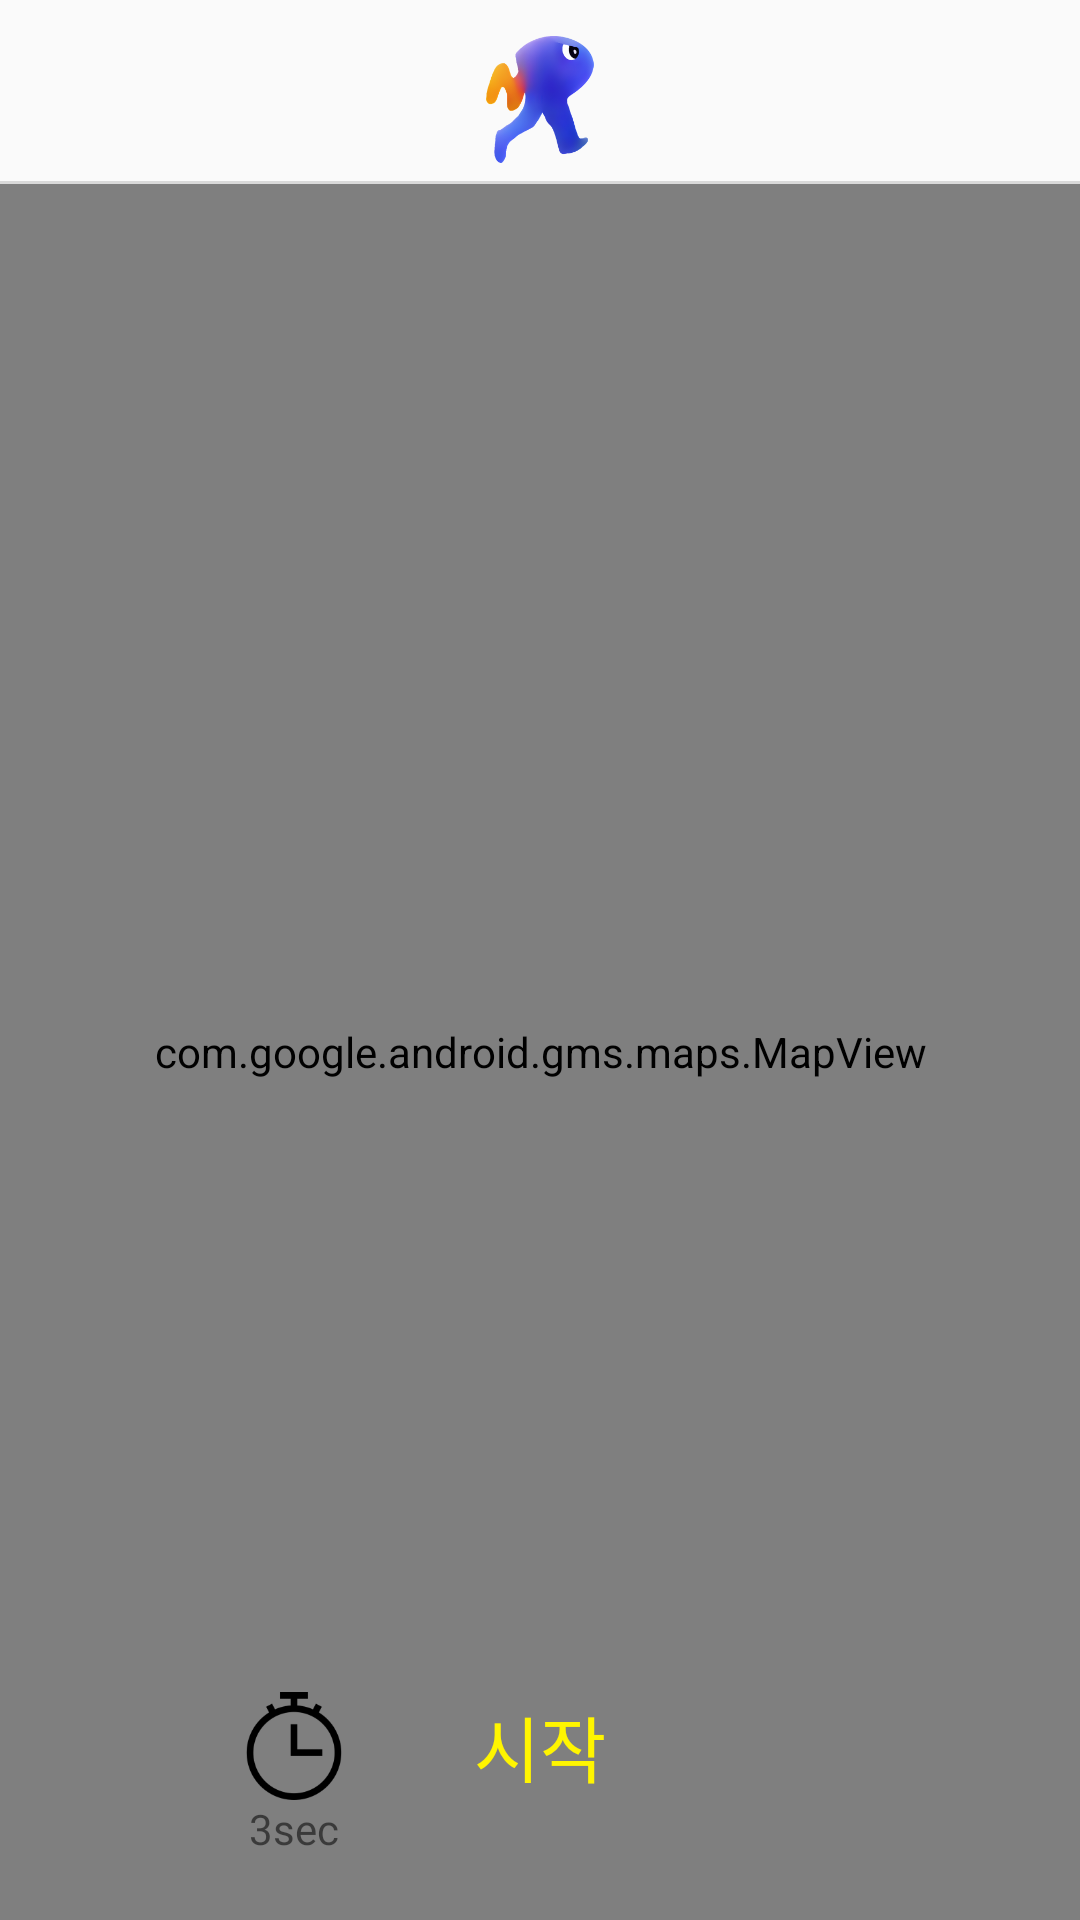

Named icons in this screenshot (1080px×1920px) and their centers, point (x, y):
timer: point (293, 1746)
